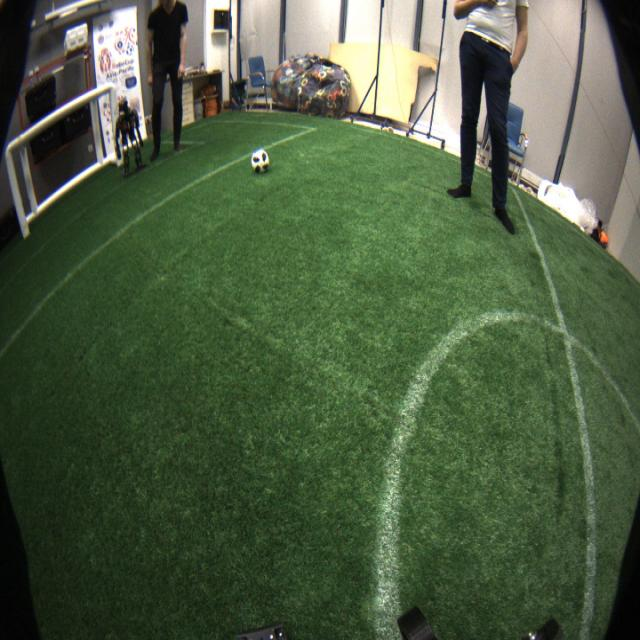ball: (252, 149, 270, 175)
goalpost: (4, 144, 30, 238), (107, 79, 125, 166)
